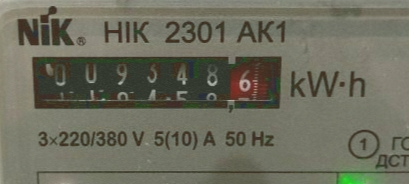0: (82, 59, 97, 82), (52, 59, 65, 85)
3: (143, 58, 157, 84)
4: (173, 58, 187, 85)
6: (235, 65, 252, 92)
8: (203, 59, 218, 87)
9: (112, 59, 127, 85)
screen: (21, 47, 290, 116)
